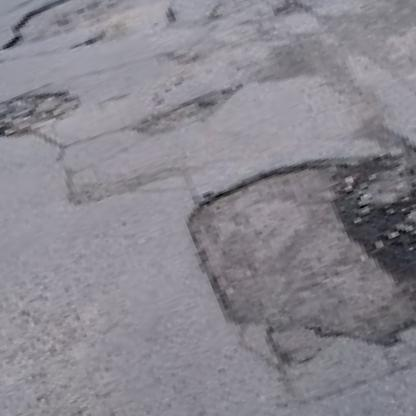pothole: (175, 90, 416, 405), (0, 0, 261, 91), (129, 76, 252, 143), (0, 68, 84, 153)
